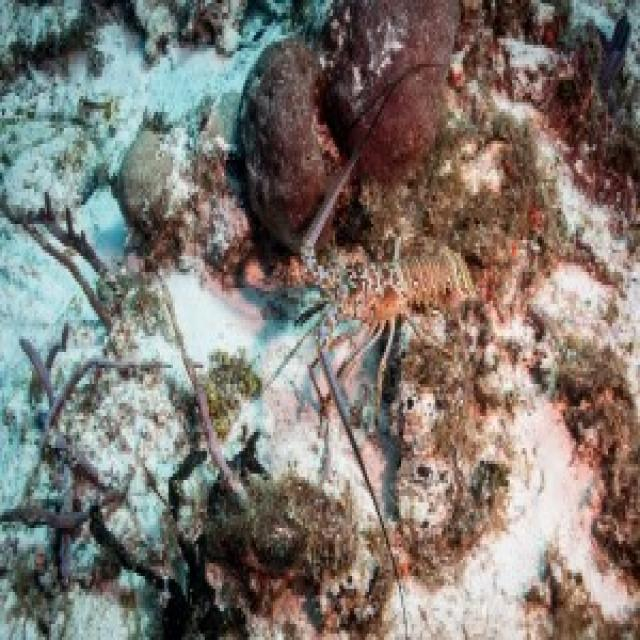lobsters: (256, 127, 628, 520)
